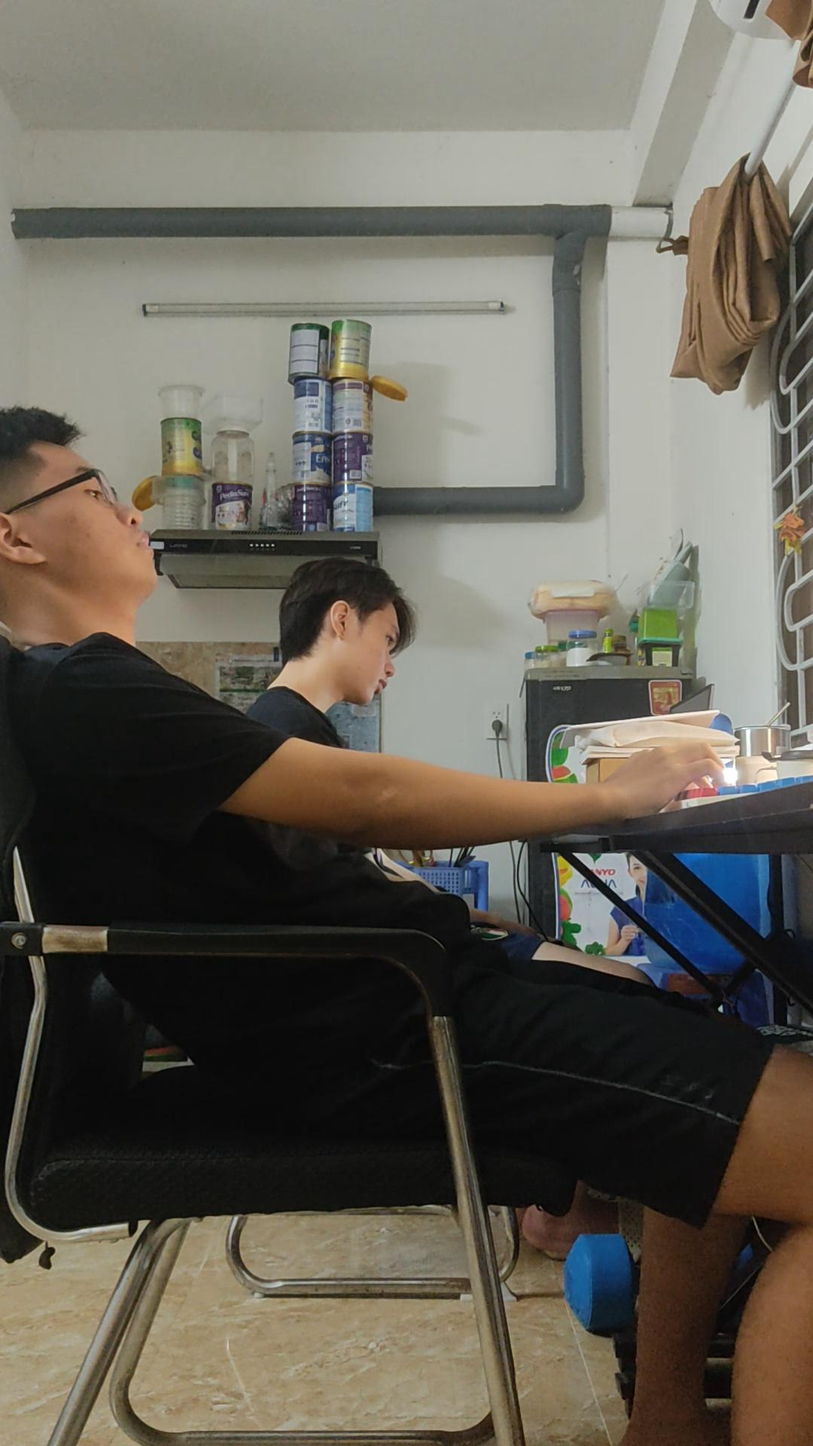BadPosture: (0, 407, 812, 1445)
